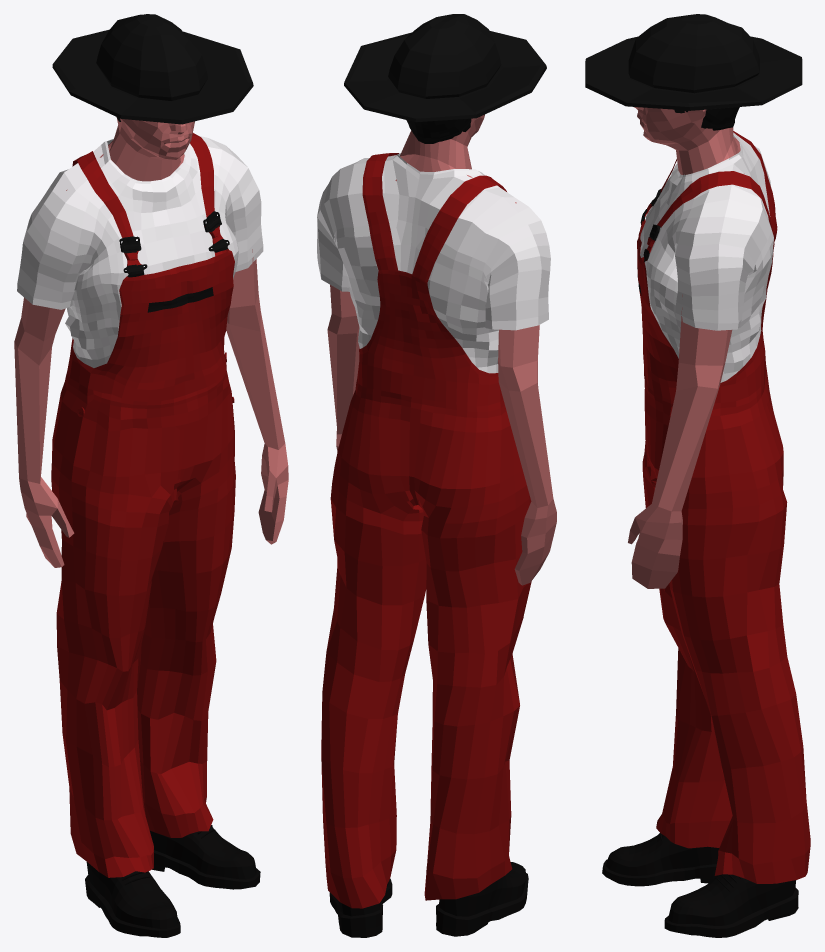
File: workermanRed.FBX
3 views of the same model, side by side, from view 1: azimuth 30°, elevation 25°; view 2: azimuth 150°, elevation 25°; view 3: azimuth 270°, elevation 25° (orthographic). The views are drawn at different scales.
Parts seen in each view (by area): view 1: Worker, Hat; view 2: Worker, Hat; view 3: Worker, Hat.
Boxes of the visible parts, bbox=[...] form: Worker: bbox=[14, 117, 288, 937]; Hat: bbox=[52, 14, 253, 124]; Worker: bbox=[317, 114, 556, 937]; Hat: bbox=[344, 14, 546, 122]; Worker: bbox=[602, 107, 810, 937]; Hat: bbox=[585, 14, 802, 110].
Size of the model in its own units: 0.517 by 1.84 by 0.4318.
